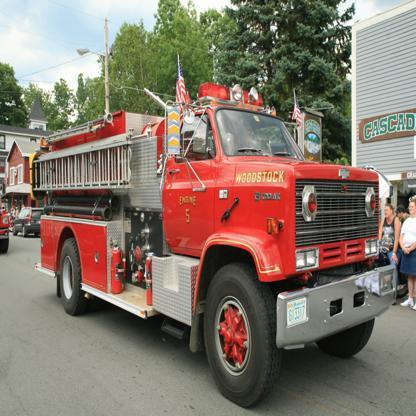fire-truck: (0, 59, 416, 397)
